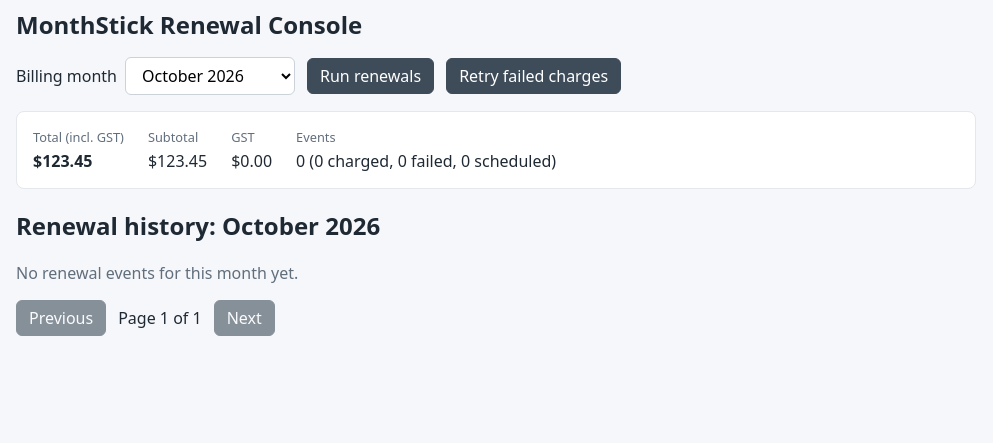
Test case: App › running renewals shows a summary and refreshes the history
Expected: the text "No renewal events for this month yet." is shown, [16,262,298,284]
Click the button "Run renewals": (371, 76) [307,58,434,94]
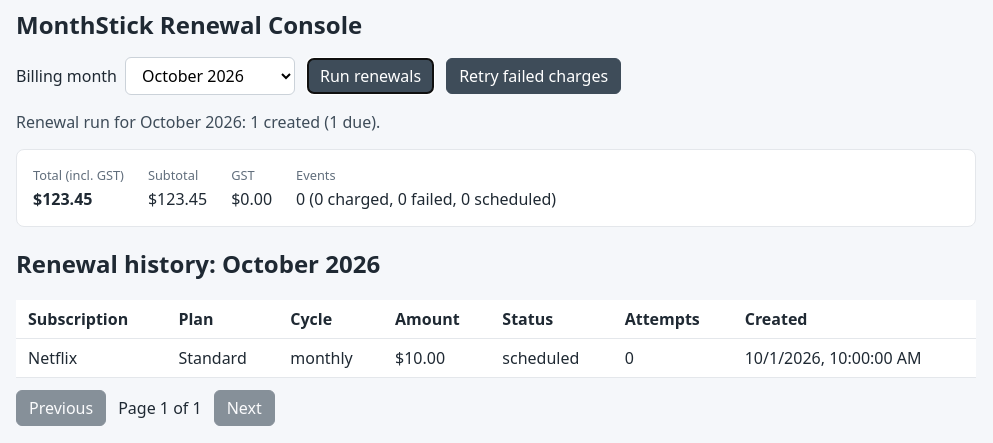
Expected: the text "Netflix" is shown, [16,338,166,377]
Expected: the text "Renewal run for October 2026: 1 created (1 due)." is shown, [16,111,380,133]
